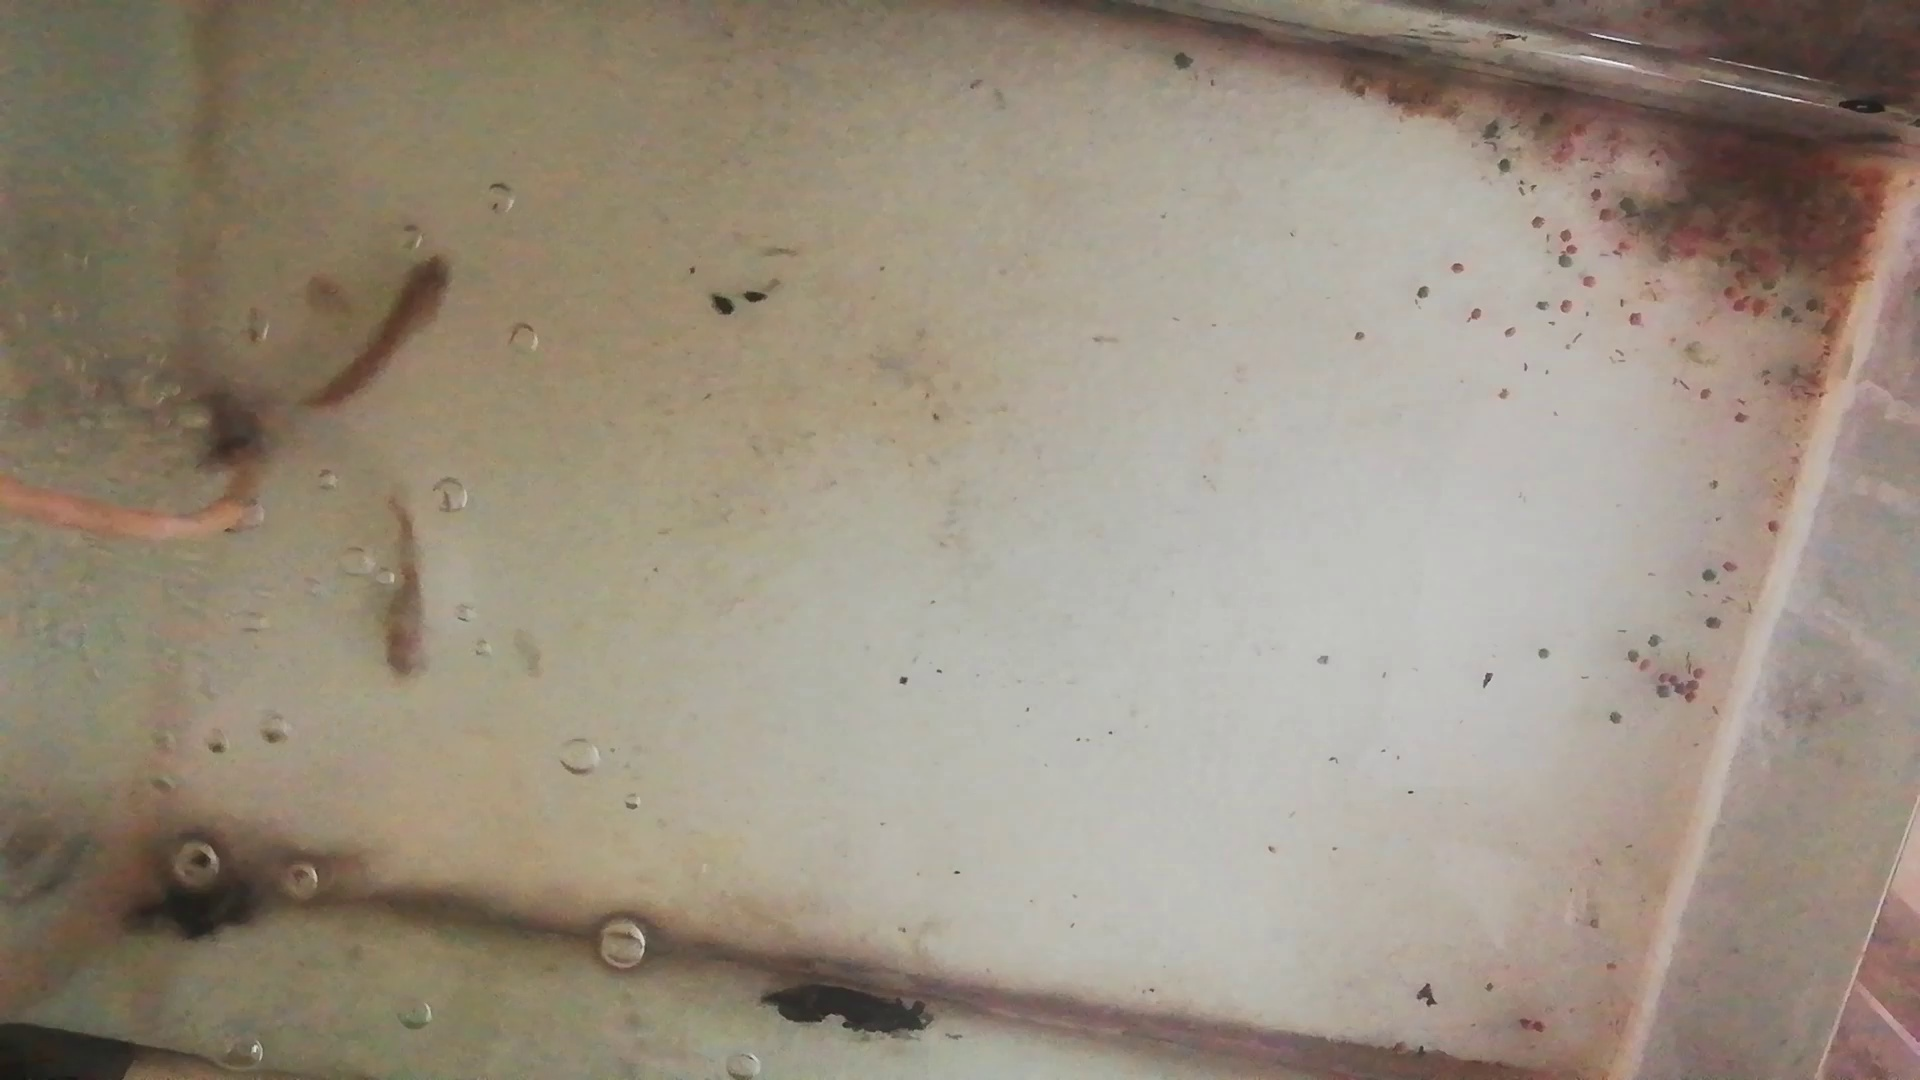fish: (298, 258, 462, 411), (375, 488, 433, 683)
